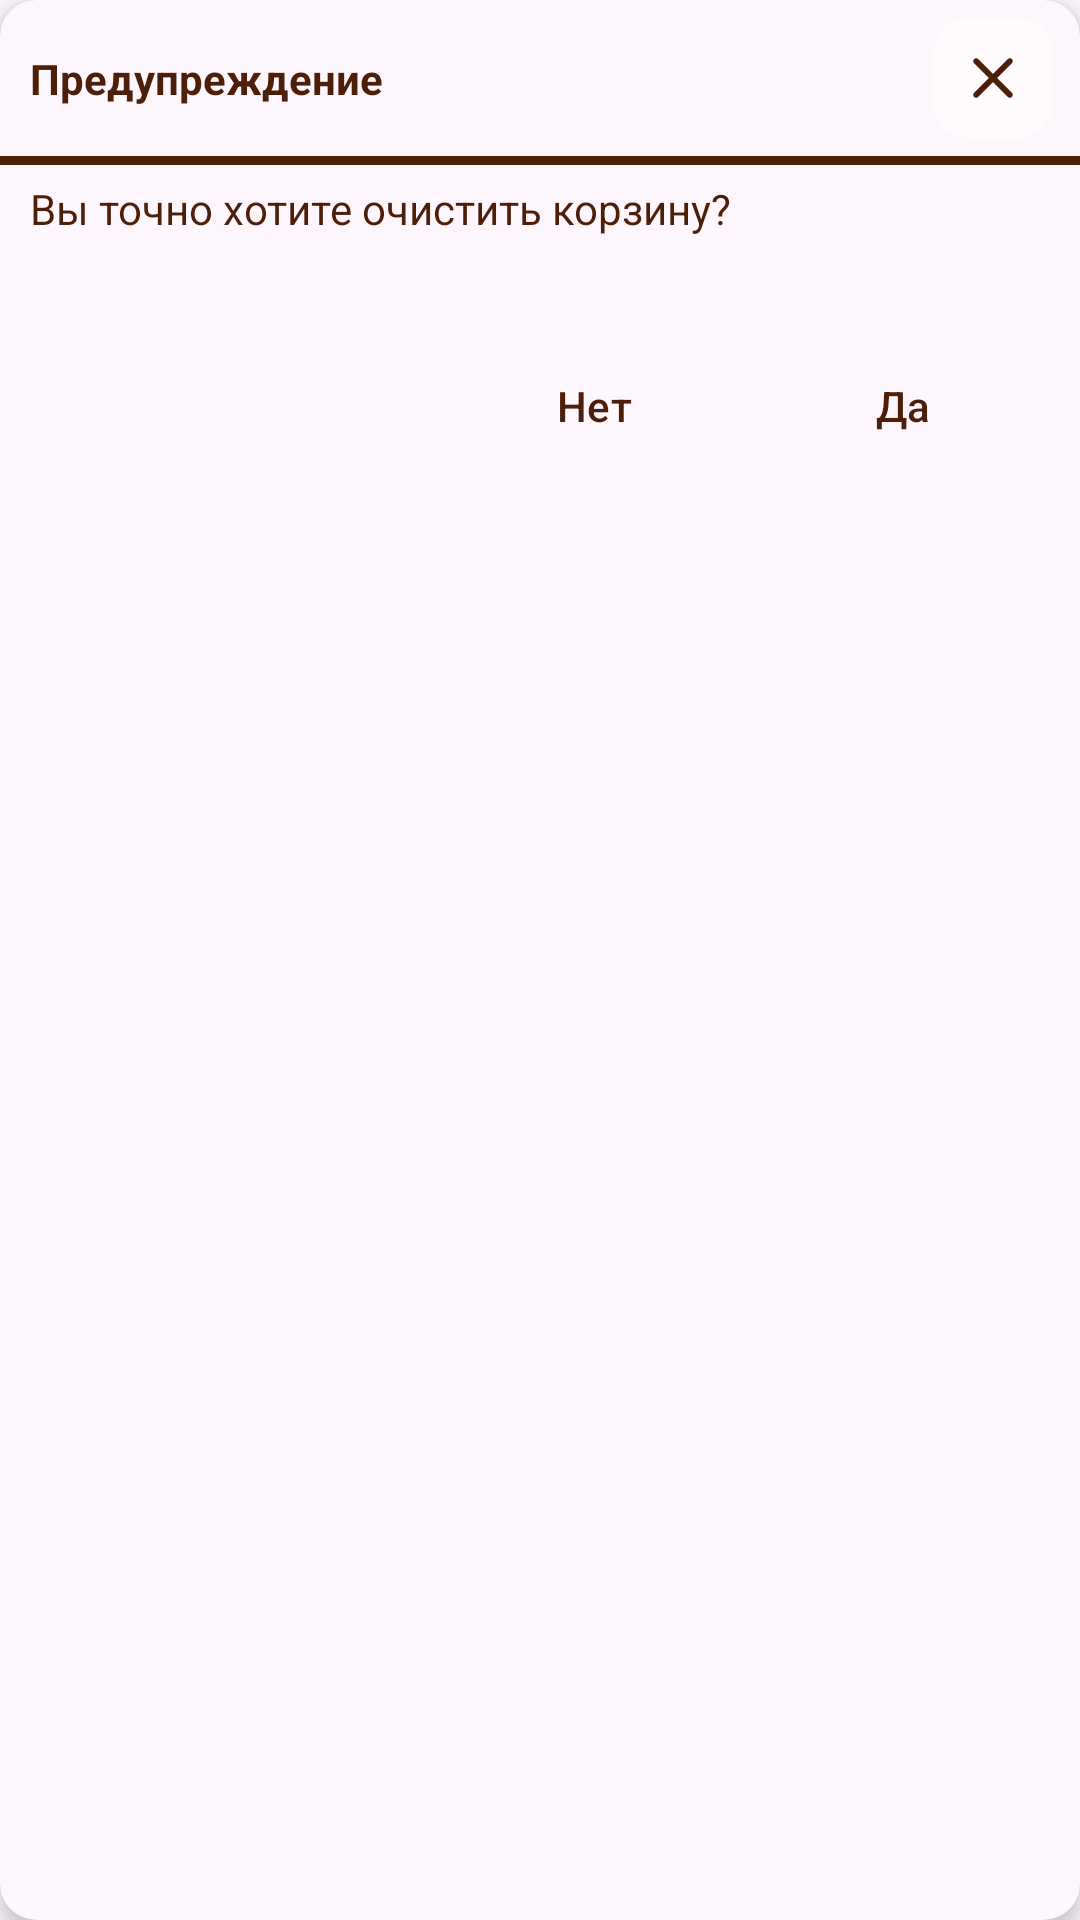

Screen size 1080 x 1920. Icon name, then its center in pixels as point (x, y):
clear: point (993, 78)
